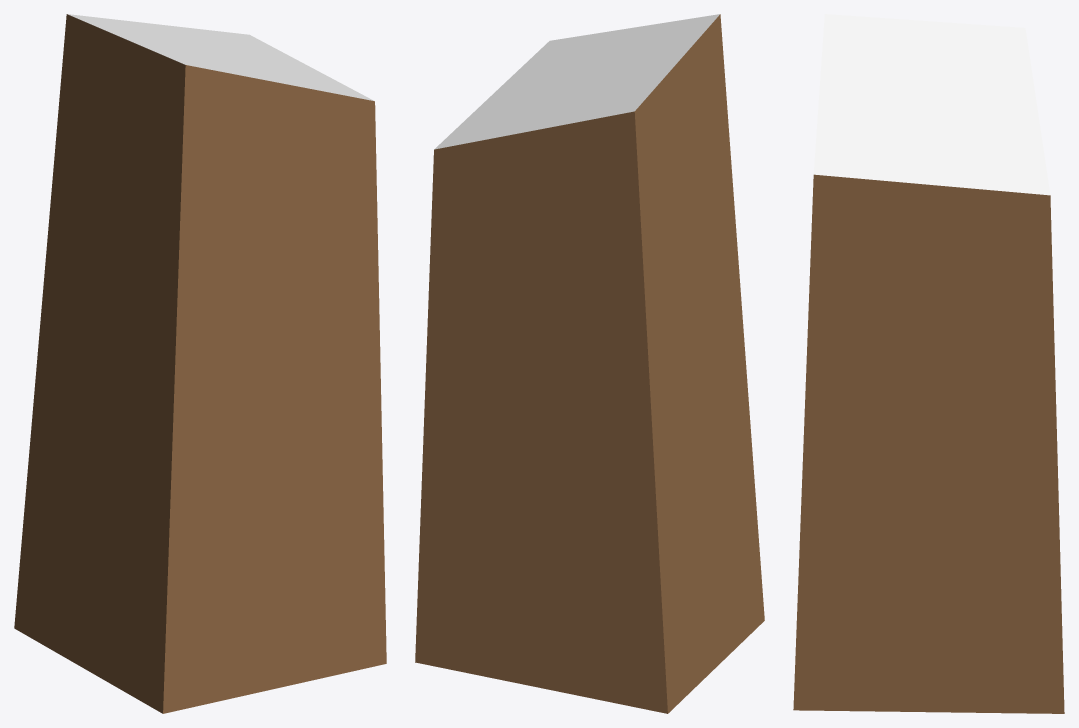
Rendered from Pine_Stump_Snow_04_LOD.fbx.
3 views of the same model, side by side, from view 1: azimuth 30°, elevation 25°; view 2: azimuth 150°, elevation 25°; view 3: azimuth 270°, elevation 25° (orthographic). The views are drawn at different scales.
Parts seen in each view (by area): view 1: Pine_Stump_Snow_04_LOD0; view 2: Pine_Stump_Snow_04_LOD0; view 3: Pine_Stump_Snow_04_LOD0.
Boxes of the visible parts, <box> form: Pine_Stump_Snow_04_LOD0: <box>14,14,386,713</box>; Pine_Stump_Snow_04_LOD0: <box>415,14,764,713</box>; Pine_Stump_Snow_04_LOD0: <box>793,14,1064,713</box>.
Size of what is drawn, in the model's own units: 24.73 by 59.29 by 23.91.
